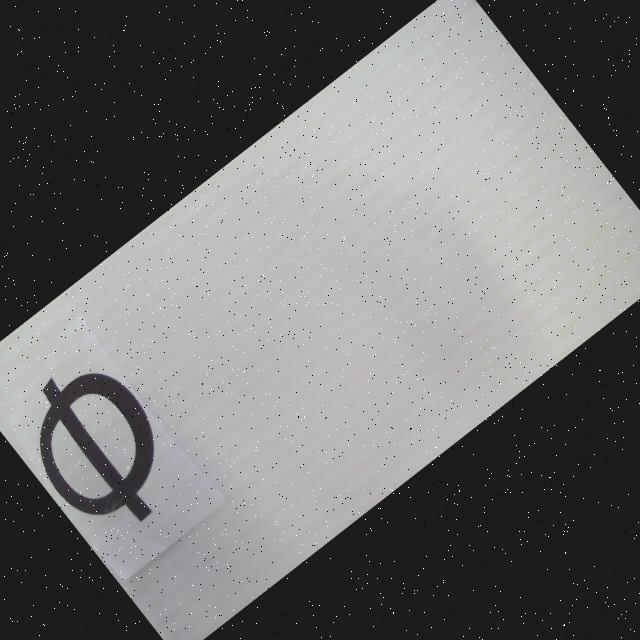PHI: (0, 342, 199, 551)
